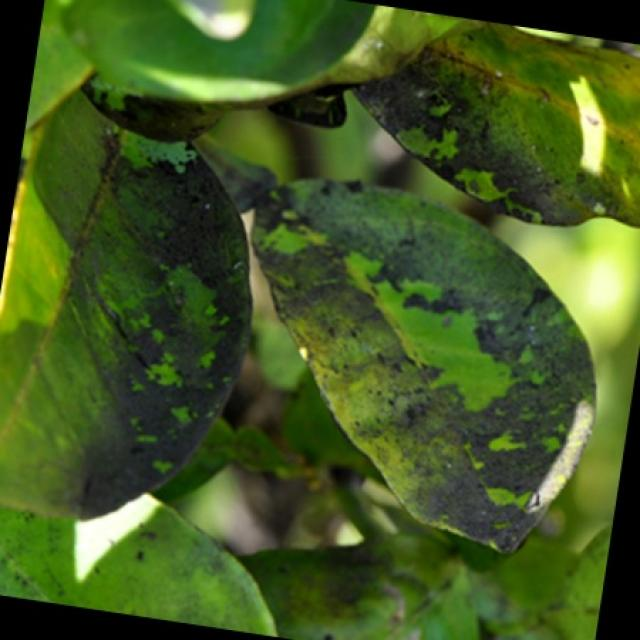Sooty Mold: (0, 80, 255, 522), (350, 18, 638, 235)
